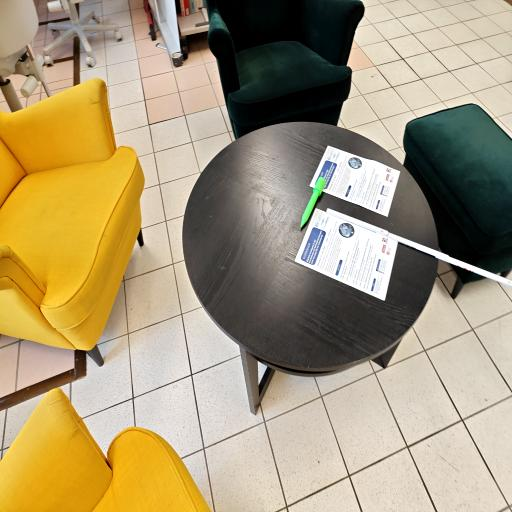Probe-Detection: (300, 177, 326, 228)
